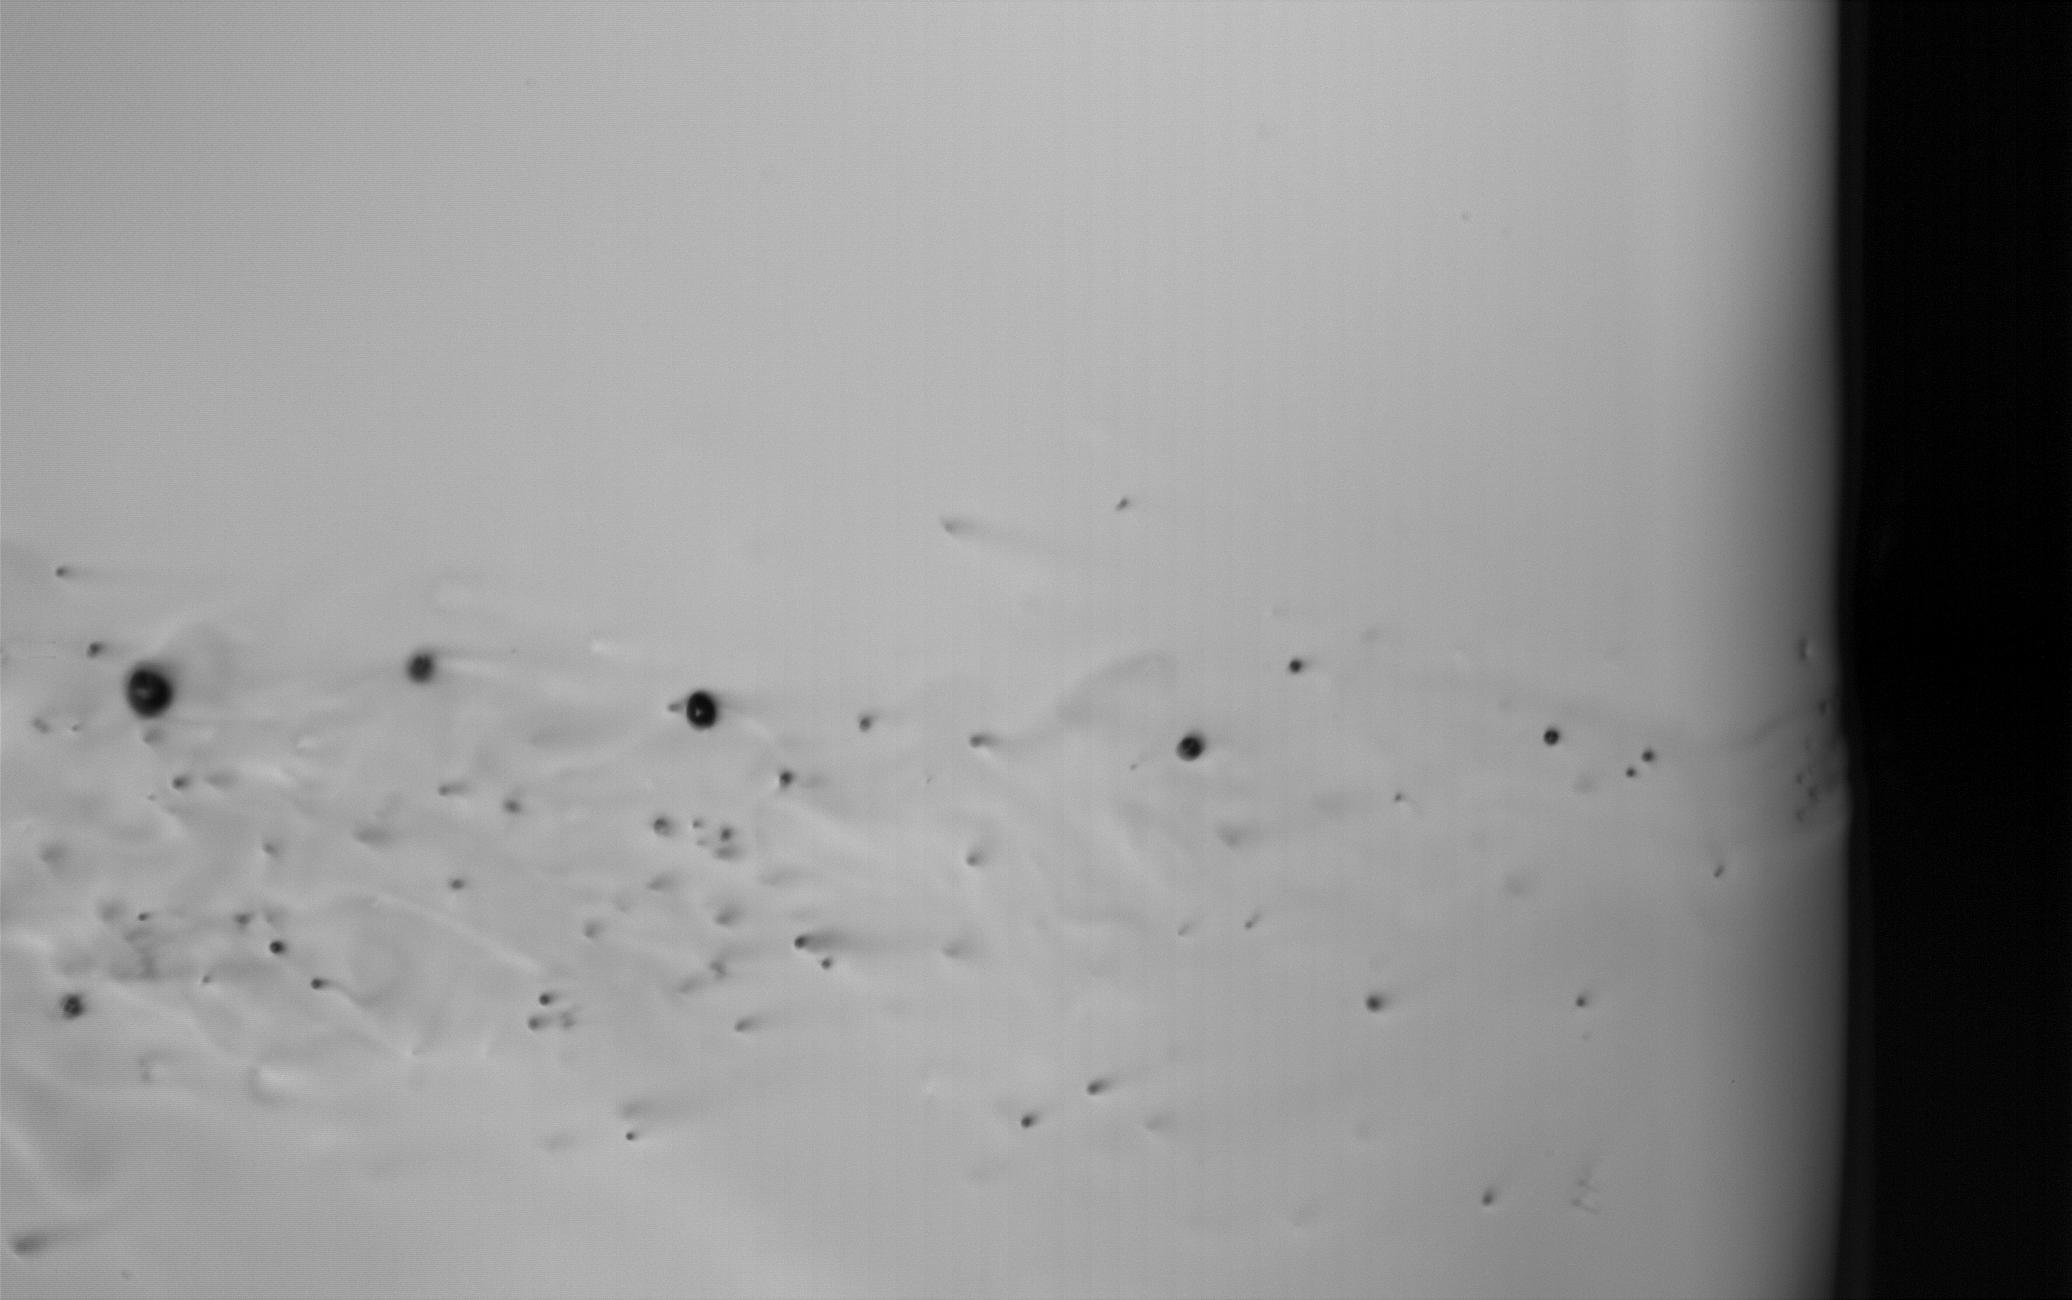Blurry: (127, 909, 162, 969), (687, 953, 734, 996), (519, 1011, 578, 1035), (960, 840, 993, 879), (710, 825, 746, 860), (647, 807, 677, 843), (813, 956, 844, 988), (500, 789, 531, 822), (645, 870, 681, 897), (231, 905, 265, 932), (579, 914, 614, 941), (726, 1008, 761, 1035), (436, 779, 479, 800), (258, 834, 286, 866), (1084, 1074, 1112, 1104), (163, 768, 190, 798), (451, 875, 466, 891)
ClassicalEvaporation: (124, 663, 175, 725), (678, 684, 725, 741), (398, 646, 443, 689), (1172, 726, 1205, 765), (52, 991, 88, 1024), (1356, 984, 1386, 1018), (1282, 650, 1313, 681), (790, 926, 820, 959), (1538, 720, 1567, 750), (260, 932, 290, 962), (1014, 1104, 1040, 1137), (853, 705, 882, 735), (773, 765, 799, 791), (966, 729, 990, 755), (1575, 991, 1591, 1009), (1641, 744, 1657, 762), (534, 990, 551, 1006), (308, 975, 325, 991), (1621, 764, 1636, 780), (623, 1129, 638, 1146)
